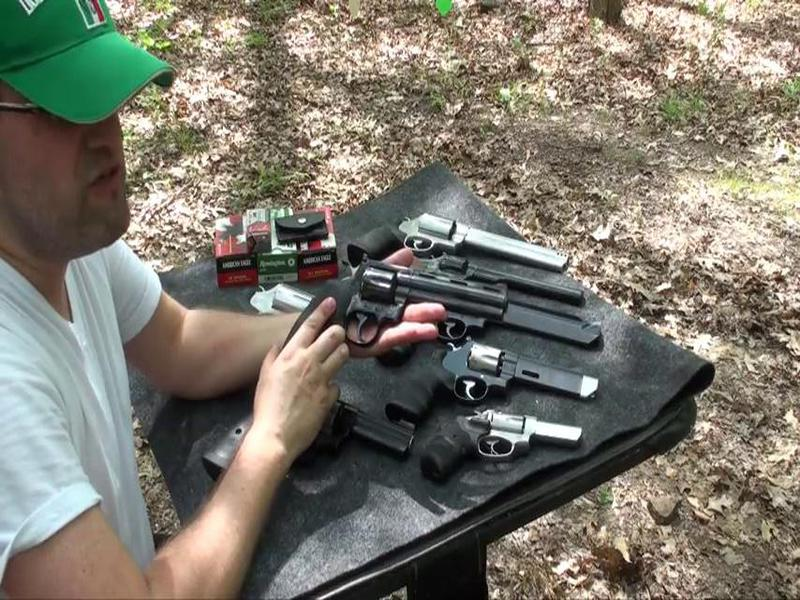Revolver: (265, 260, 531, 381)
